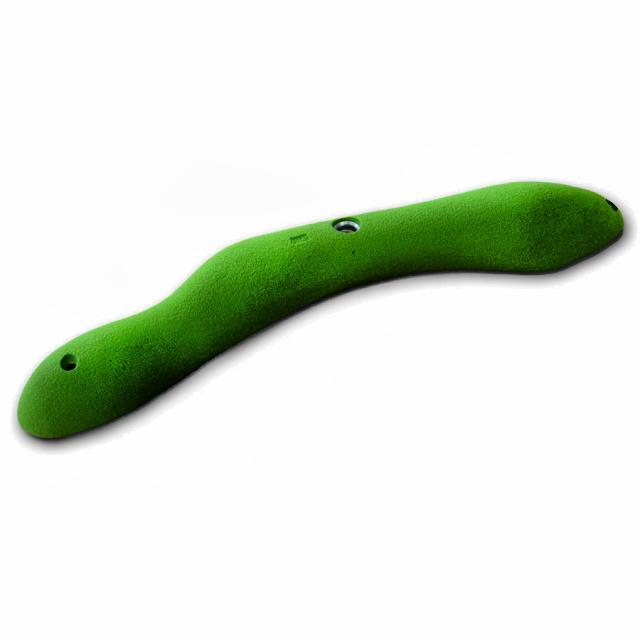Hold: (3, 163, 636, 483)
